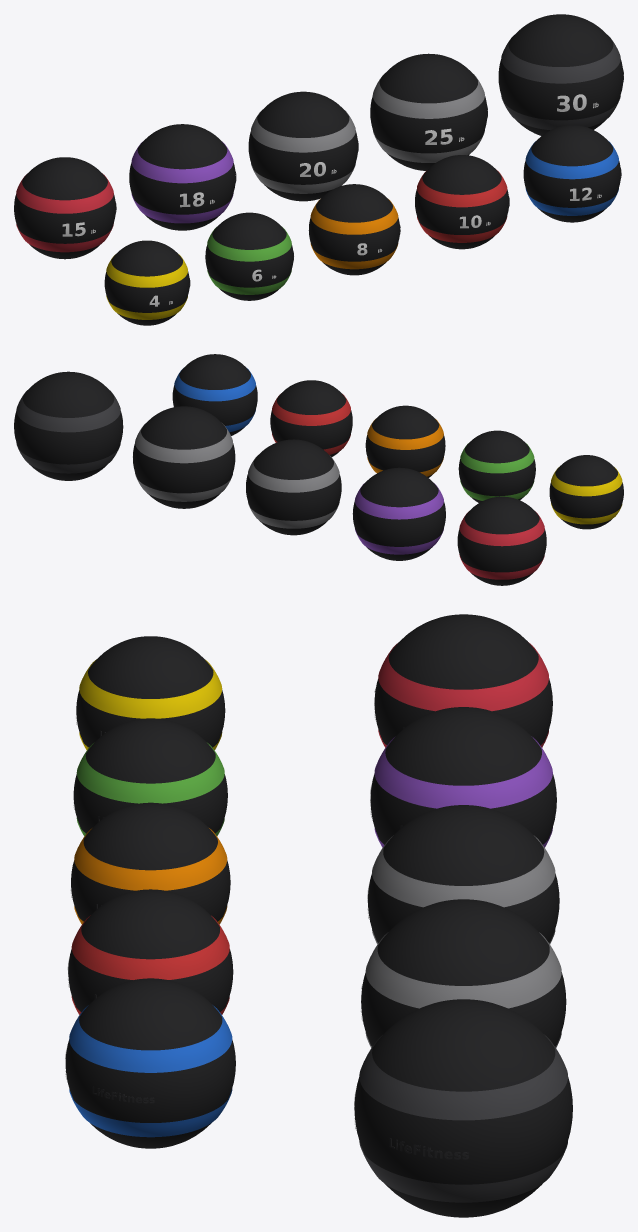
Rendered from life-fitness-medicine-balls_v003.glb.
3 views of the same model, one above another, from view 1: azimuth 30°, elevation 25°; view 2: azimuth 150°, elevation 25°; view 3: azimuth 270°, elevation 25° (orthographic). The views are drawn at different scales.
Visible parts, largest first — view 1: life-fitness-medicine-balls_rubber, life-fitness-medicine-balls_stripe30, life-fitness-medicine-balls_stripe25, life-fitness-medicine-balls_stripe20, life-fitness-medicine-balls_stripe18, life-fitness-medicine-balls_stripe15, life-fitness-medicine-balls_stripe12, life-fitness-medicine-balls_white, life-fitness-medicine-balls_stripe10, life-fitness-medicine-balls_stripe8, life-fitness-medicine-balls_stripe6, life-fitness-medicine-balls_stripe4; view 2: life-fitness-medicine-balls_rubber, life-fitness-medicine-balls_stripe30, life-fitness-medicine-balls_stripe25, life-fitness-medicine-balls_stripe20, life-fitness-medicine-balls_stripe18, life-fitness-medicine-balls_stripe15, life-fitness-medicine-balls_stripe4, life-fitness-medicine-balls_stripe12, life-fitness-medicine-balls_stripe6, life-fitness-medicine-balls_stripe10, life-fitness-medicine-balls_stripe8; view 3: life-fitness-medicine-balls_rubber, life-fitness-medicine-balls_stripe30, life-fitness-medicine-balls_stripe12, life-fitness-medicine-balls_stripe25, life-fitness-medicine-balls_stripe18, life-fitness-medicine-balls_stripe20, life-fitness-medicine-balls_stripe15, life-fitness-medicine-balls_stripe10, life-fitness-medicine-balls_stripe8, life-fitness-medicine-balls_stripe6, life-fitness-medicine-balls_stripe4, life-fitness-medicine-balls_script.
Part boxes in pixels (bbox=[...]): life-fitness-medicine-balls_rubber: bbox=[14, 14, 623, 325]; life-fitness-medicine-balls_stripe30: bbox=[501, 35, 620, 130]; life-fitness-medicine-balls_stripe25: bbox=[372, 73, 484, 162]; life-fitness-medicine-balls_stripe20: bbox=[251, 109, 355, 193]; life-fitness-medicine-balls_stripe18: bbox=[131, 141, 233, 223]; life-fitness-medicine-balls_stripe15: bbox=[16, 173, 113, 252]; life-fitness-medicine-balls_stripe12: bbox=[525, 141, 618, 215]; life-fitness-medicine-balls_white: bbox=[62, 94, 601, 306]; life-fitness-medicine-balls_stripe10: bbox=[417, 169, 507, 242]; life-fitness-medicine-balls_stripe8: bbox=[310, 199, 398, 269]; life-fitness-medicine-balls_stripe6: bbox=[207, 227, 291, 294]; life-fitness-medicine-balls_stripe4: bbox=[106, 254, 187, 319]; life-fitness-medicine-balls_rubber: bbox=[14, 354, 623, 585]; life-fitness-medicine-balls_stripe30: bbox=[16, 390, 120, 473]; life-fitness-medicine-balls_stripe25: bbox=[135, 423, 232, 501]; life-fitness-medicine-balls_stripe20: bbox=[248, 455, 339, 528]; life-fitness-medicine-balls_stripe18: bbox=[354, 483, 443, 554]; life-fitness-medicine-balls_stripe15: bbox=[459, 511, 544, 579]; life-fitness-medicine-balls_stripe4: bbox=[551, 466, 622, 524]; life-fitness-medicine-balls_stripe12: bbox=[174, 368, 255, 432]; life-fitness-medicine-balls_stripe6: bbox=[460, 442, 534, 500]; life-fitness-medicine-balls_stripe10: bbox=[272, 393, 350, 454]; life-fitness-medicine-balls_stripe8: bbox=[367, 419, 443, 476]; life-fitness-medicine-balls_rubber: bbox=[65, 614, 572, 1217]; life-fitness-medicine-balls_stripe30: bbox=[359, 1034, 567, 1202]; life-fitness-medicine-balls_stripe12: bbox=[69, 1005, 232, 1137]; life-fitness-medicine-balls_stripe25: bbox=[365, 932, 561, 1047]; life-fitness-medicine-balls_stripe18: bbox=[374, 736, 552, 847]; life-fitness-medicine-balls_stripe20: bbox=[372, 835, 555, 944]; life-fitness-medicine-balls_stripe15: bbox=[378, 642, 548, 747]; life-fitness-medicine-balls_stripe10: bbox=[71, 915, 229, 1014]; life-fitness-medicine-balls_stripe8: bbox=[74, 828, 227, 924]; life-fitness-medicine-balls_stripe6: bbox=[76, 742, 224, 836]; life-fitness-medicine-balls_stripe4: bbox=[79, 659, 222, 750]; life-fitness-medicine-balls_script: bbox=[92, 727, 468, 1159].
Size of the model in its own units: 1.53 by 0.2794 by 0.6494.
